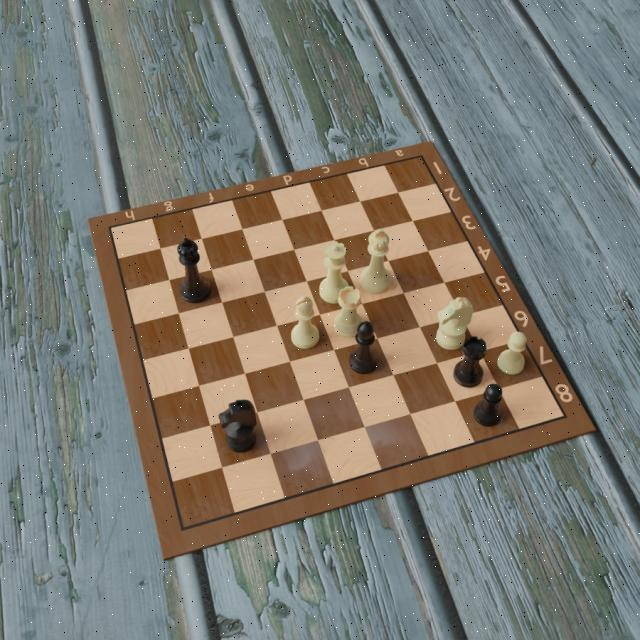black-bishop: (348, 320, 379, 375)
black-king: (176, 236, 213, 304)
black-knight: (218, 399, 258, 453)
black-pawn: (472, 381, 503, 426)
black-rook: (452, 336, 487, 388)
white-bishop: (290, 293, 321, 350)
white-king: (359, 225, 392, 295)
white-knight: (434, 295, 475, 350)
white-pawn: (496, 329, 528, 376)
white-queen: (318, 240, 349, 306)
white-rook: (333, 285, 363, 339)
